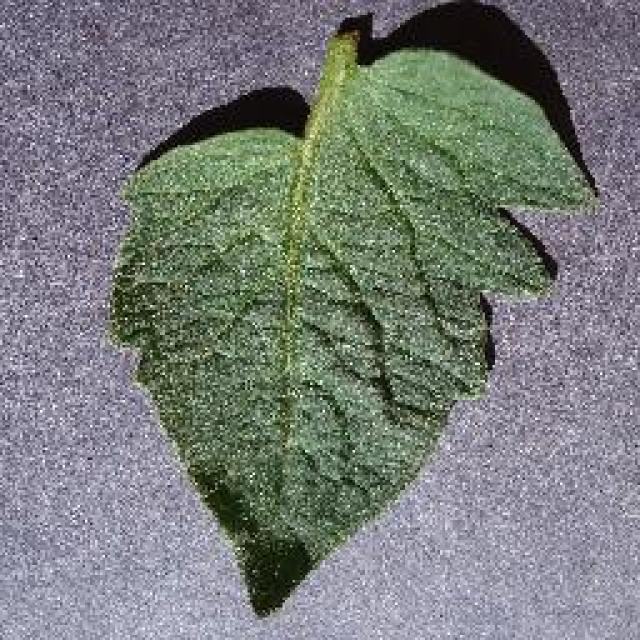Tomato___healthy: (104, 25, 603, 627)
